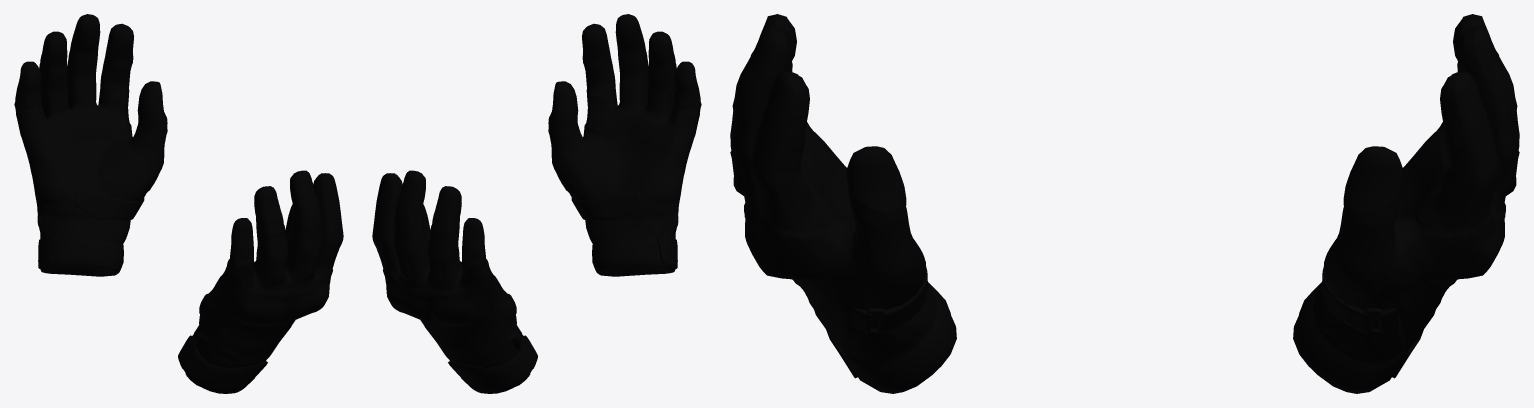
The picture shows the model from 3 angles, left to right: view 1: azimuth 30°, elevation 25°; view 2: azimuth 150°, elevation 25°; view 3: azimuth 270°, elevation 25°; orthographic projection. The views are drawn at different scales.
Parts seen in each view (by area): view 1: characters/models/shared/arms/glove_motorcycle/w_glove_moto; view 2: characters/models/shared/arms/glove_motorcycle/w_glove_moto; view 3: characters/models/shared/arms/glove_motorcycle/w_glove_moto.
Boxes of the visible parts, box(x1,y1,x2,y2) form: characters/models/shared/arms/glove_motorcycle/w_glove_moto: box(14, 14, 343, 393); characters/models/shared/arms/glove_motorcycle/w_glove_moto: box(372, 14, 701, 393); characters/models/shared/arms/glove_motorcycle/w_glove_moto: box(730, 14, 1519, 393).
Bounding box in the file's own units: 5.72 × 9.89 × 18.49.
Materials: 2 (2 with a texture image).
